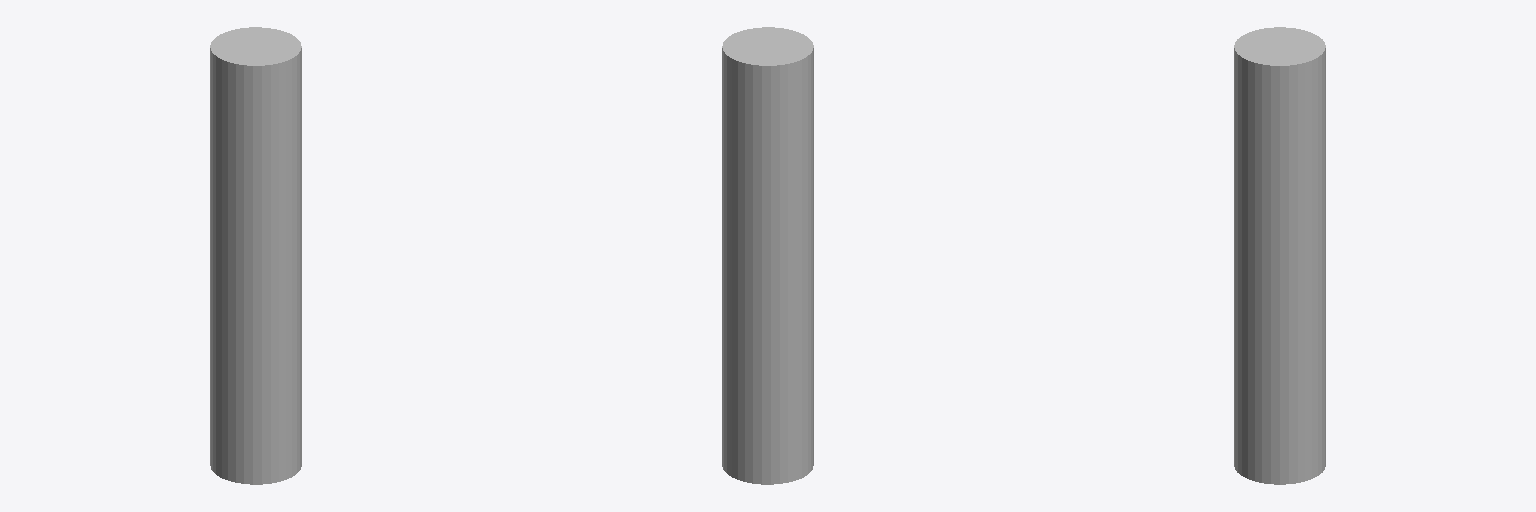
File: pipe.obj
The picture shows the model from 3 angles: view 1: azimuth 30°, elevation 25°; view 2: azimuth 150°, elevation 25°; view 3: azimuth 270°, elevation 25°; orthographic projection.
Visible parts, largest first — view 1: Цилиндр; view 2: Цилиндр; view 3: Цилиндр.
Part boxes in pixels (left/top/right/bottom): Цилиндр: left=210, top=27, right=301, bottom=484; Цилиндр: left=722, top=27, right=813, bottom=484; Цилиндр: left=1234, top=27, right=1325, bottom=484.
Size of the model in its own units: 0.5777 by 2.92 by 0.5777.